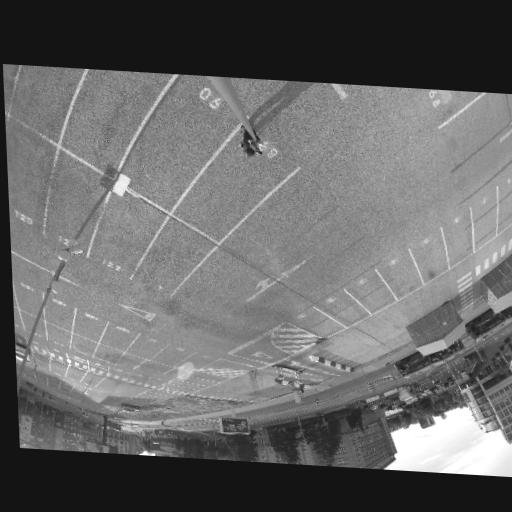busy: (15, 342, 32, 366), (119, 404, 139, 415)
free: (145, 119, 204, 168), (82, 79, 140, 128), (19, 65, 72, 106), (204, 166, 255, 206), (7, 156, 46, 196), (51, 187, 93, 223), (101, 217, 145, 250), (152, 244, 193, 273), (474, 204, 497, 234), (447, 224, 471, 247), (419, 243, 444, 265), (16, 290, 40, 312), (388, 267, 414, 285), (358, 284, 383, 302), (47, 306, 71, 324), (332, 300, 355, 317), (105, 329, 129, 345), (24, 316, 45, 334), (77, 318, 100, 334), (499, 188, 512, 215), (133, 341, 155, 356), (308, 316, 330, 331), (160, 349, 181, 363), (49, 329, 69, 343), (74, 339, 94, 352), (100, 348, 120, 361), (142, 364, 162, 375), (68, 367, 85, 379), (86, 374, 100, 384)
